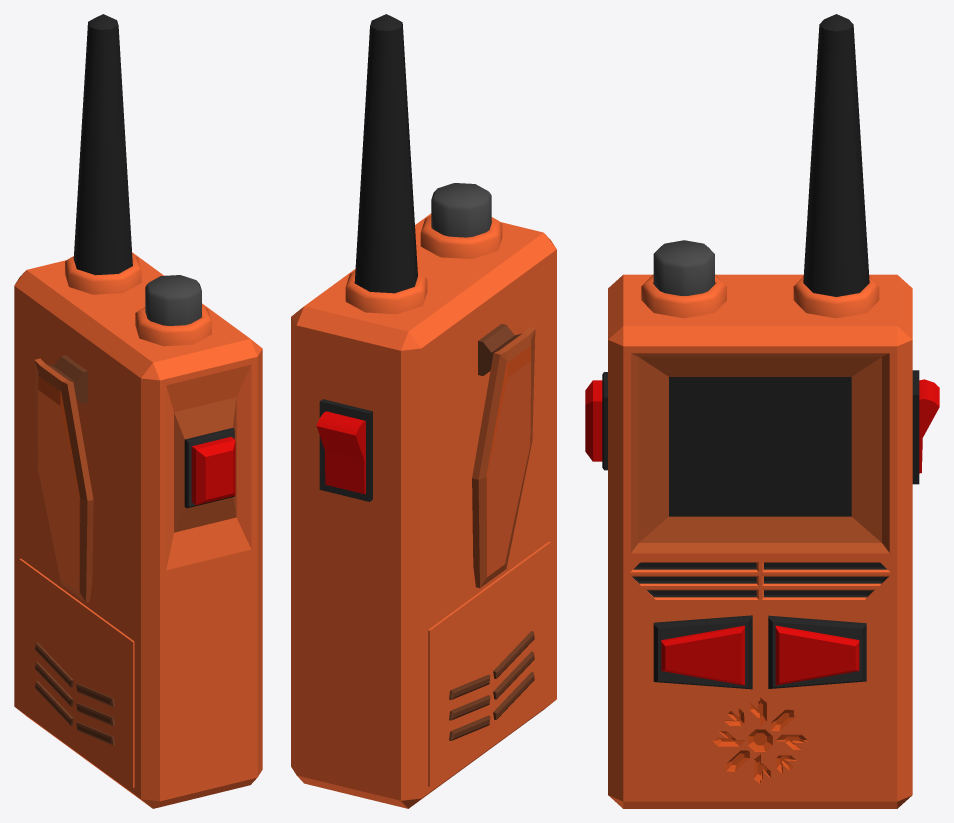
Rendered from Radio.fbx.
3 renders of one model, left to right at view 1: azimuth 30°, elevation 25°; view 2: azimuth 150°, elevation 25°; view 3: azimuth 270°, elevation 25°, orthographic. The views are drawn at different scales.
Parts seen in each view (by area): view 1: Cube, Cube.005, Cube.001, Cube.004, Cube.002, Cube.003; view 2: Cube, Cube.005, Cube.001, Cube.004, Cube.002, Switch, SwitchOnOff; view 3: Cube, Cube.001, Cube.007, Cube.002, Cube.003, Switch, SwitchOnOff.
Part boxes in pixels (x1,y1,x2,y2): Cube: (14,252,262,808); Cube.005: (19,558,134,787); Cube.001: (73,14,132,275); Cube.004: (34,355,93,602); Cube.002: (65,254,211,346); Cube.003: (184,428,235,508); Cube: (291,213,556,808); Cube.005: (428,541,551,786); Cube.001: (354,14,417,293); Cube.004: (472,323,535,587); Cube.002: (345,183,502,314); Switch: (316,411,365,494); SwitchOnOff: (319,399,372,501); Cube: (608,274,912,808); Cube.001: (803,14,869,296); Cube.007: (653,615,866,689); Cube.002: (641,240,879,318); Cube.003: (585,372,607,470); Switch: (919,379,939,473); SwitchOnOff: (912,370,919,484).
Size of the model in its own units: 13.32 by 55.75 by 23.28.
